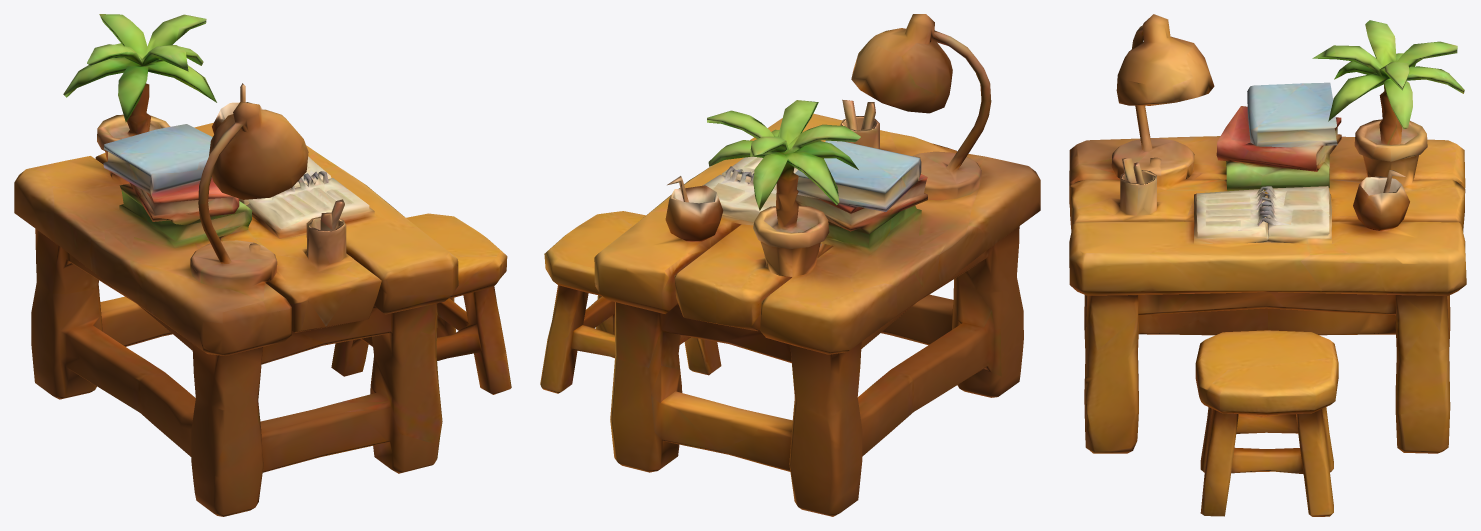
Rendered from act_study.glb.
The picture shows the model from 3 angles, left to right: view 1: azimuth 30°, elevation 25°; view 2: azimuth 150°, elevation 25°; view 3: azimuth 270°, elevation 25°; orthographic projection. The views are drawn at different scales.
Visible parts, largest first — view 1: tripo_node_33a8f36e-ebcd-4bfe-bdf6-f397cedbb047; view 2: tripo_node_33a8f36e-ebcd-4bfe-bdf6-f397cedbb047; view 3: tripo_node_33a8f36e-ebcd-4bfe-bdf6-f397cedbb047.
Part boxes in pixels (box(x1,y1,x2,y2)): tripo_node_33a8f36e-ebcd-4bfe-bdf6-f397cedbb047: box(14, 14, 511, 516); tripo_node_33a8f36e-ebcd-4bfe-bdf6-f397cedbb047: box(540, 14, 1040, 516); tripo_node_33a8f36e-ebcd-4bfe-bdf6-f397cedbb047: box(1069, 14, 1466, 516).
Bounding box in the file's own units: 1 × 0.9387 × 0.9246.
1 material, 1 textured.
